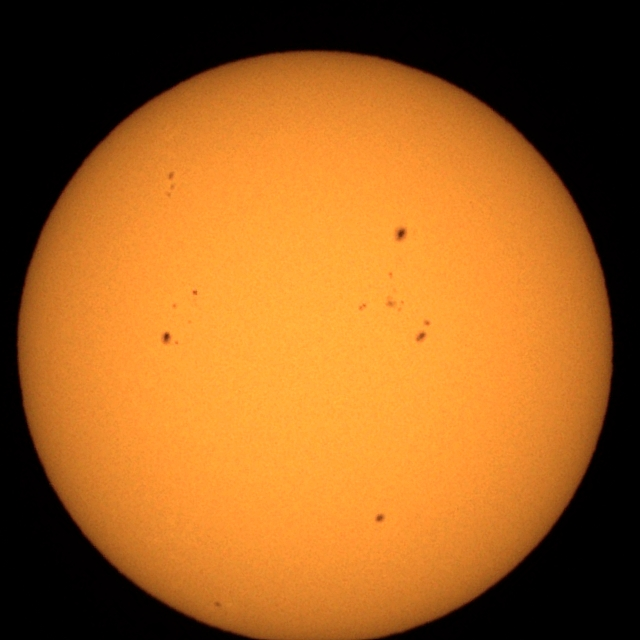sunspot: (415, 319, 432, 342), (384, 298, 406, 313), (160, 331, 180, 347), (166, 170, 177, 198), (393, 225, 408, 243), (374, 513, 386, 524), (358, 302, 368, 312), (213, 600, 222, 608), (171, 302, 178, 310), (387, 271, 394, 278), (191, 289, 198, 296), (187, 319, 193, 325)
